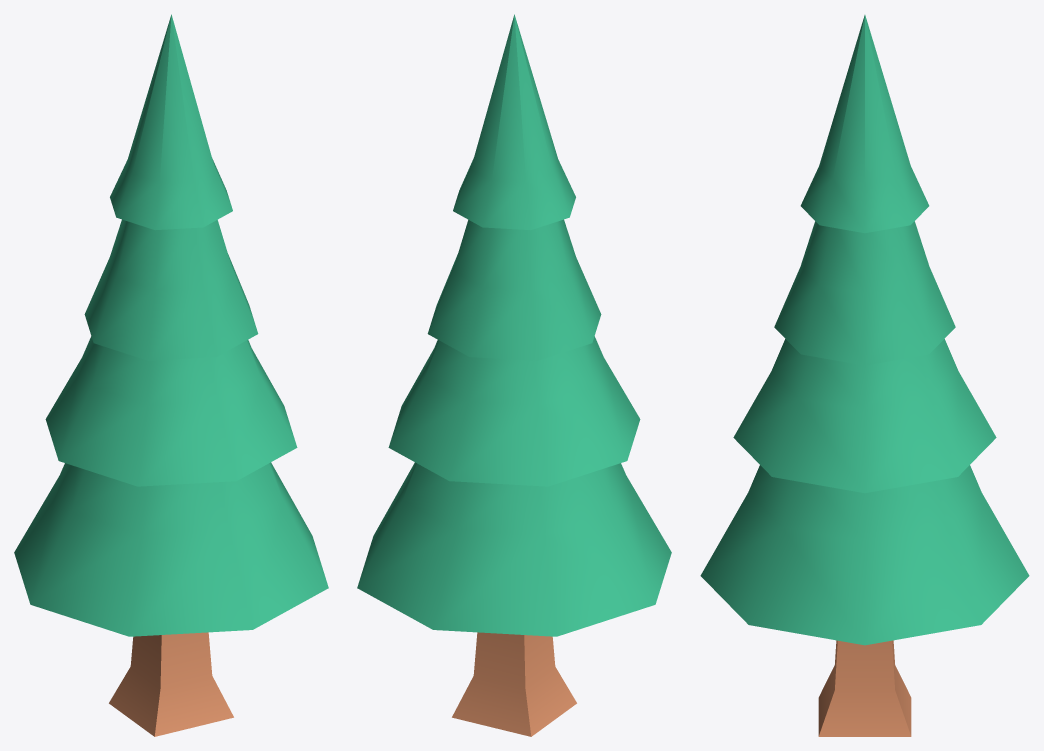
The model's file is tree.glb.
The picture shows the model from 3 angles, left to right: view 1: azimuth 30°, elevation 25°; view 2: azimuth 150°, elevation 25°; view 3: azimuth 270°, elevation 25°; orthographic projection.
Parts seen in each view (by area): view 1: tree; view 2: tree; view 3: tree.
Part boxes in pixels (x1,y1,x2,y2): tree: (14,14,328,736); tree: (357,14,671,736); tree: (700,15,1029,736).
Size of the model in its own units: 1.02 by 2.41 by 1.02.
